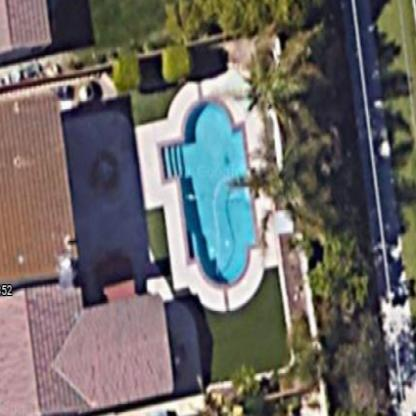pool: (147, 81, 269, 293)
